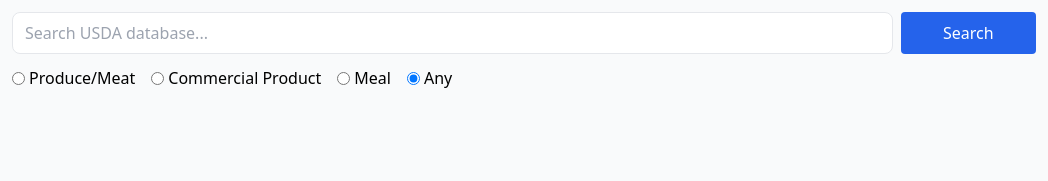
Scenario: IngredientSearch › results display › shows brandOwner for branded foods
Type "hot sauce" into the field with placeholder "Search USDA database...". click: (452, 33)
box: [12,12,893,54]
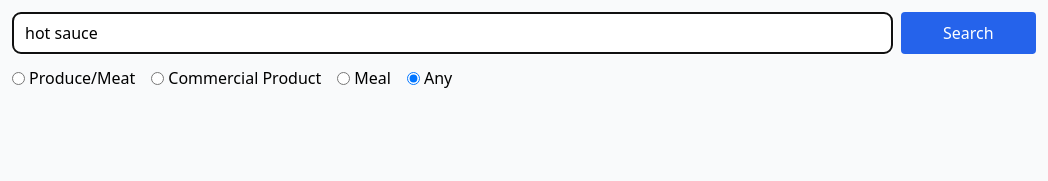
Click the button "Search". click: (968, 33)
box: [901,12,1036,54]
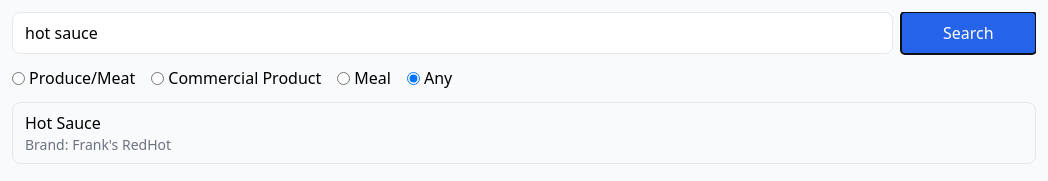
Expected: the text "Brand: Frank's RedHot" is shown, [25,135,171,154]
